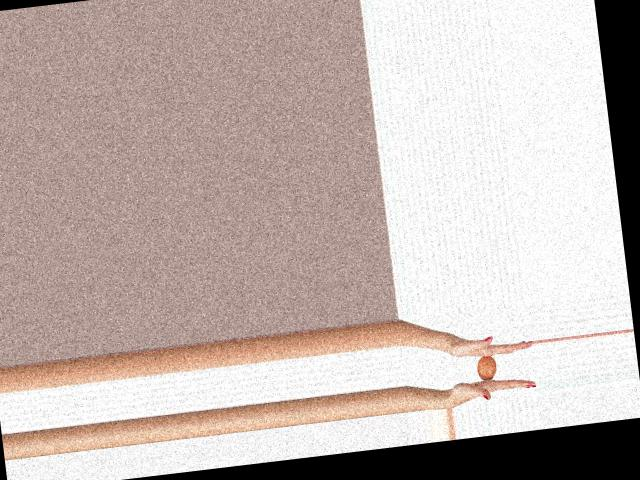egg: (475, 354, 496, 380)
